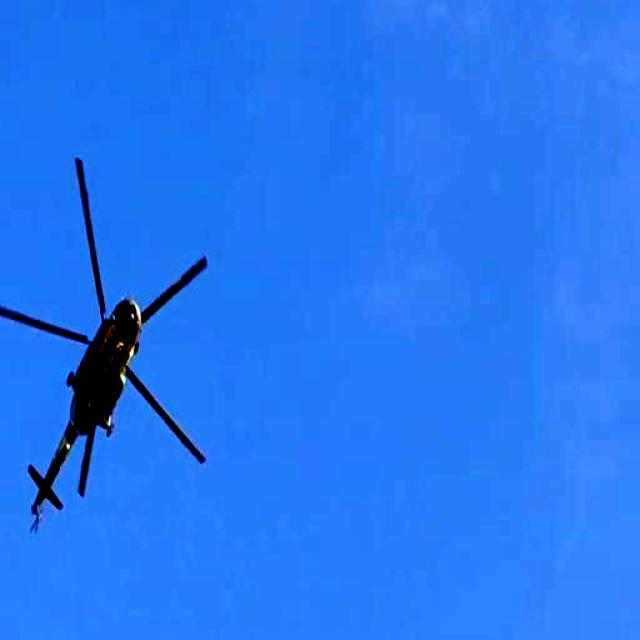drone: (0, 155, 218, 535)
